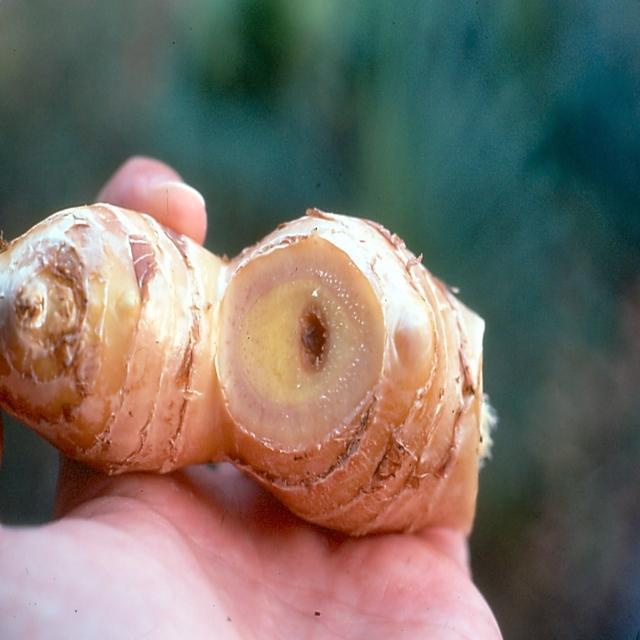ginger: (11, 218, 494, 510)
